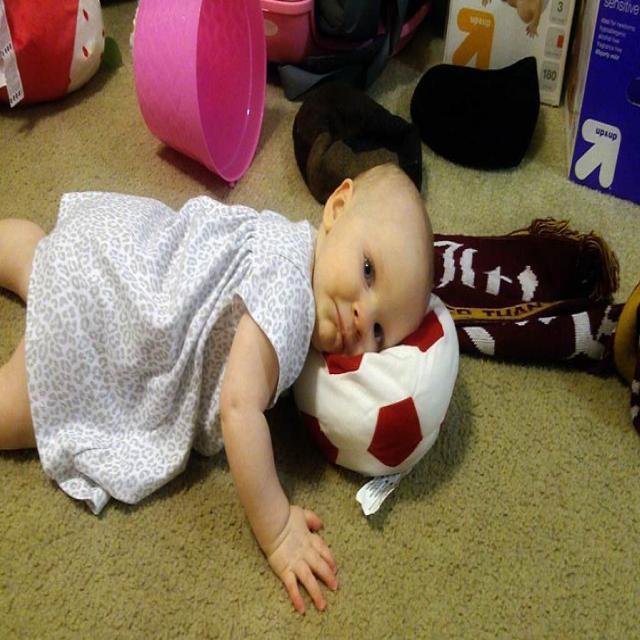ball: (292, 294, 458, 476)
